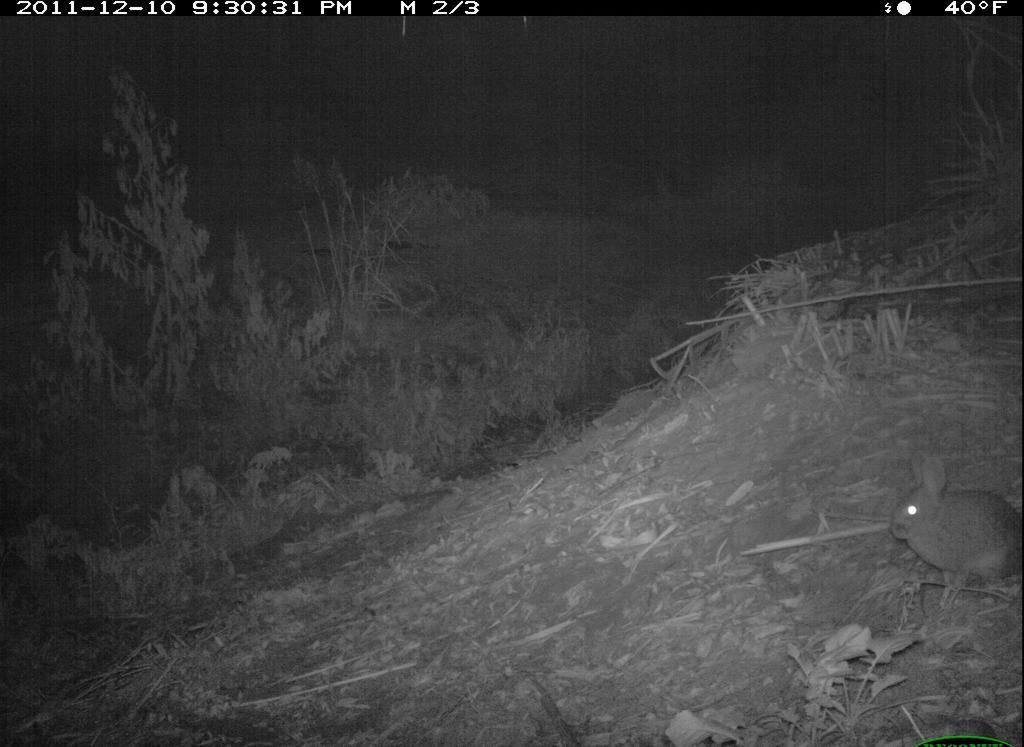rabbit: (882, 452, 1023, 610)
